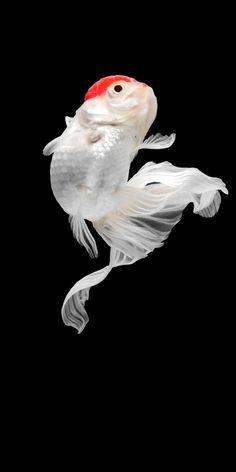goldfish: (35, 68, 227, 331)
